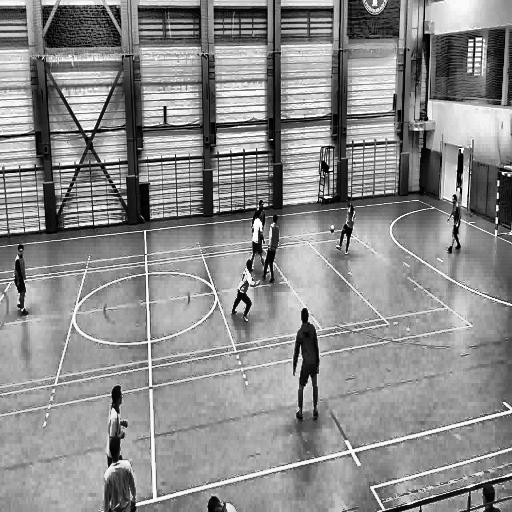ball: (330, 223, 336, 235)
player: (291, 304, 320, 422), (104, 438, 137, 512), (229, 260, 261, 326), (106, 384, 128, 466), (262, 214, 281, 284), (13, 245, 30, 317), (336, 198, 356, 257), (252, 210, 269, 276), (446, 194, 464, 255), (253, 196, 265, 231)
